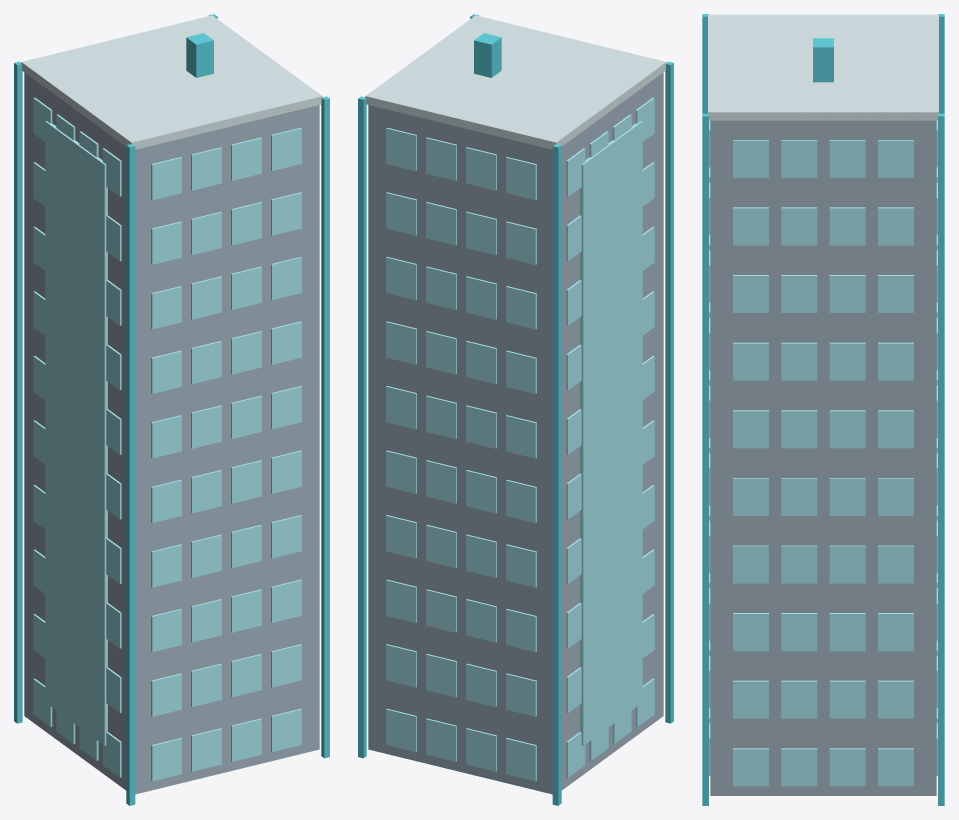
Rendered from tower_a.glb.
3 views of the same model, side by side, from view 1: azimuth 30°, elevation 25°; view 2: azimuth 150°, elevation 25°; view 3: azimuth 270°, elevation 25° (orthographic). The views are drawn at different scales.
Size of the model in its own units: 9.09 by 30.08 by 9.09.
